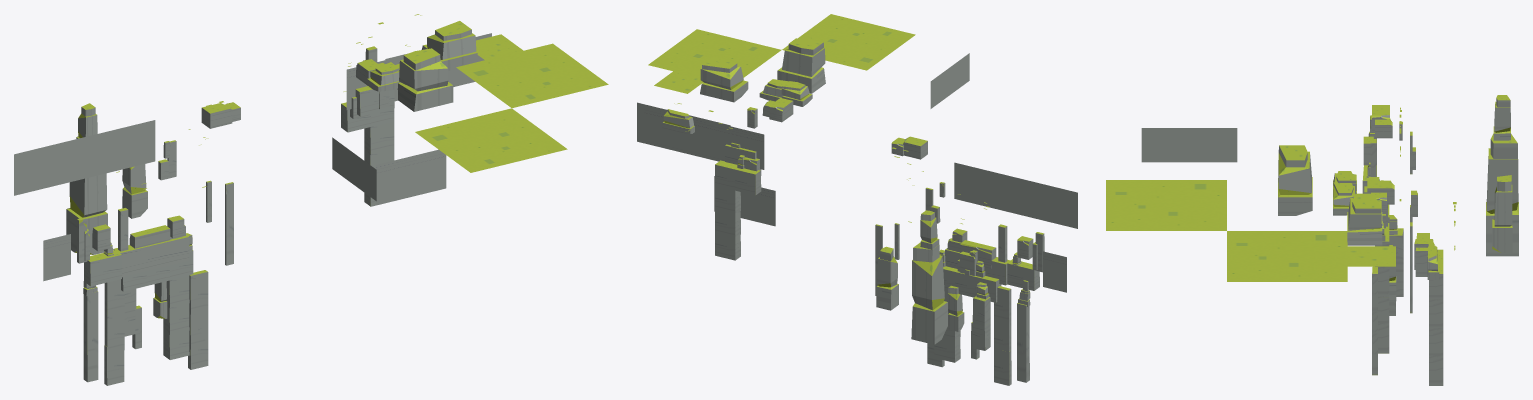
The model's file is LastChunk_PCPORT.fbx.
3 views of the same model, side by side, from view 1: azimuth 30°, elevation 25°; view 2: azimuth 150°, elevation 25°; view 3: azimuth 270°, elevation 25° (orthographic). The views are drawn at different scales.
Visible parts, largest first — view 1: _CombinedLastChunk_PCPORTChild_Crush_NoAO, _CombinedLastChunk_PCPORTChild_Crush_MatDark_noAO; view 2: _CombinedLastChunk_PCPORTChild_Crush_NoAO, _CombinedLastChunk_PCPORTChild_Crush_MatDark_noAO; view 3: _CombinedLastChunk_PCPORTChild_Crush_NoAO, _CombinedLastChunk_PCPORTChild_Crush_MatDark_noAO.
Boxes of the visible parts, x1,y1,x2,y2 form: _CombinedLastChunk_PCPORTChild_Crush_NoAO: (14,14,608,385); _CombinedLastChunk_PCPORTChild_Crush_MatDark_noAO: (66,103,147,254); _CombinedLastChunk_PCPORTChild_Crush_NoAO: (637,14,1077,385); _CombinedLastChunk_PCPORTChild_Crush_MatDark_noAO: (876,210,947,344); _CombinedLastChunk_PCPORTChild_Crush_NoAO: (1106,105,1456,385); _CombinedLastChunk_PCPORTChild_Crush_MatDark_noAO: (1486,95,1518,256).
Size of the model in its own units: 106 by 57.76 by 68.36.
Materials: 2 (2 with a texture image).
